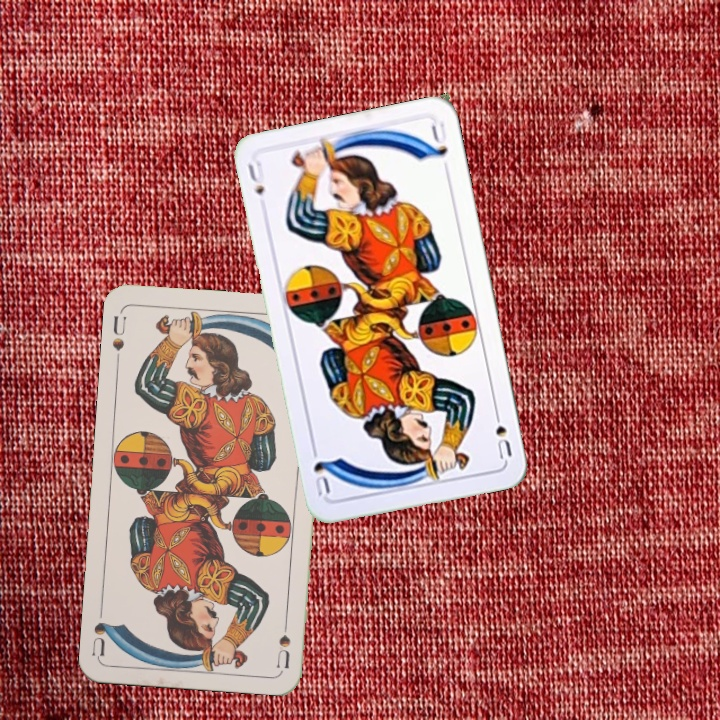SU: (490, 404, 515, 462), (272, 610, 293, 670), (243, 158, 267, 198), (108, 312, 129, 353)
